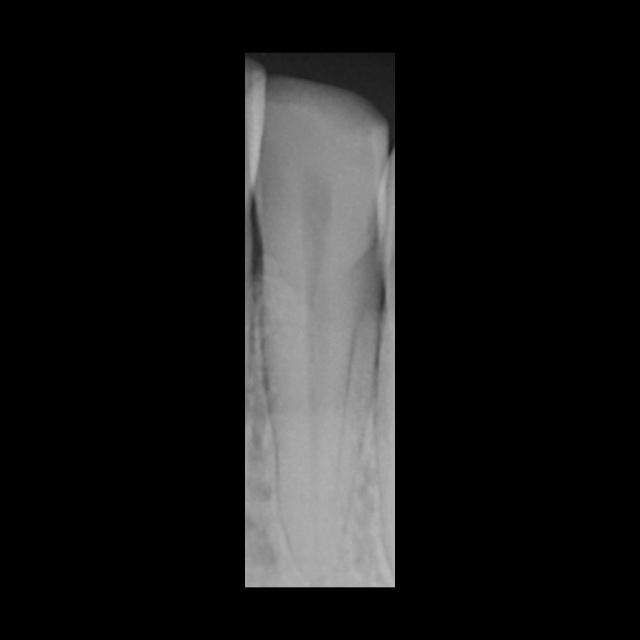tooth: (252, 73, 389, 581)
